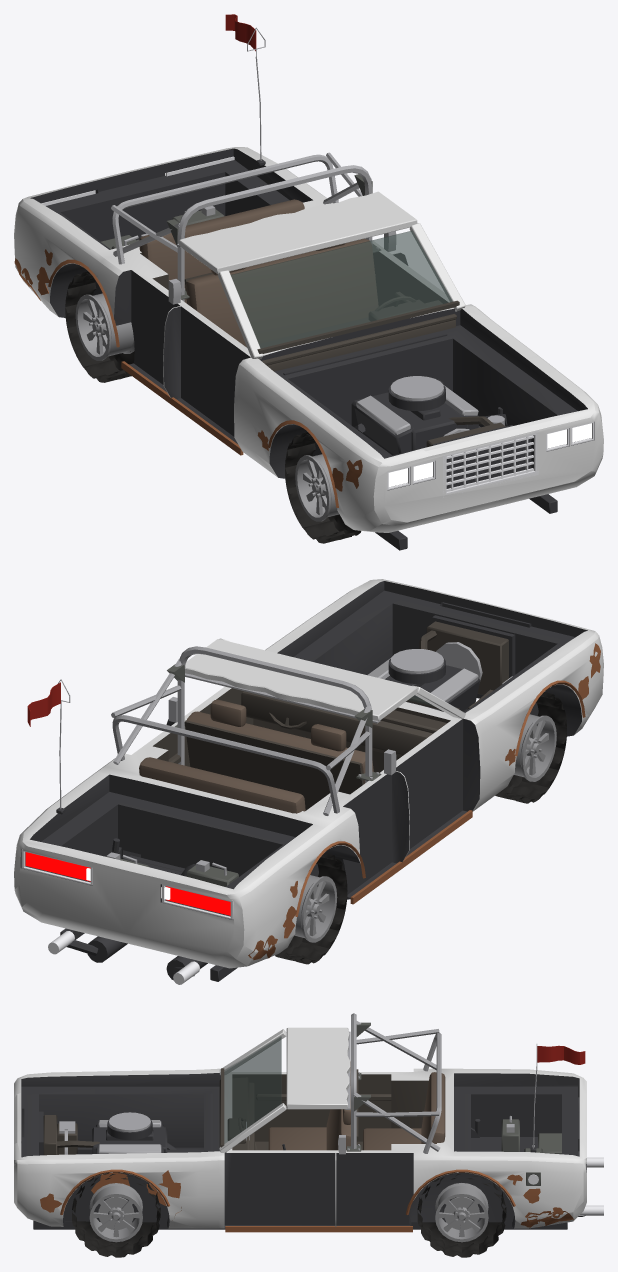
File: e_sedan_strip.glb
3 views of the same model, one above another, from view 1: azimuth 30°, elevation 25°; view 2: azimuth 150°, elevation 25°; view 3: azimuth 270°, elevation 25° (orthographic). The views are drawn at different scales.
Visible parts, largest first — view 1: body_mesh, wheel_RR_rim, wheel_FR_tire, wheel_RR_tire, wheel_FR_rim; view 2: body_mesh, wheel_RR_tire, wheel_FR_tire, wheel_FR_rim, wheel_RR_rim; view 3: body_mesh, wheel_RL_rim, wheel_FL_rim, wheel_FL_tire, wheel_RL_tire.
Boxes of the visible parts, <box> form: body_mesh: <box>14,14,603,550</box>; wheel_RR_rim: <box>75,293,134,360</box>; wheel_FR_tire: <box>285,432,361,543</box>; wheel_RR_tire: <box>65,271,134,382</box>; wheel_FR_rim: <box>295,454,338,521</box>; body_mesh: <box>14,579,603,984</box>; wheel_RR_tire: <box>275,853,347,964</box>; wheel_FR_tire: <box>495,692,566,803</box>; wheel_FR_rim: <box>514,714,556,781</box>; wheel_RR_rim: <box>294,875,337,942</box>; body_mesh: <box>14,1013,603,1232</box>; wheel_RL_rim: <box>435,1183,488,1242</box>; wheel_FL_rim: <box>89,1183,142,1242</box>; wheel_FL_tire: <box>72,1173,160,1257</box>; wheel_RL_tire: <box>417,1173,506,1257</box>.
Size of the model in its own units: 2 by 2.02 by 5.19.
